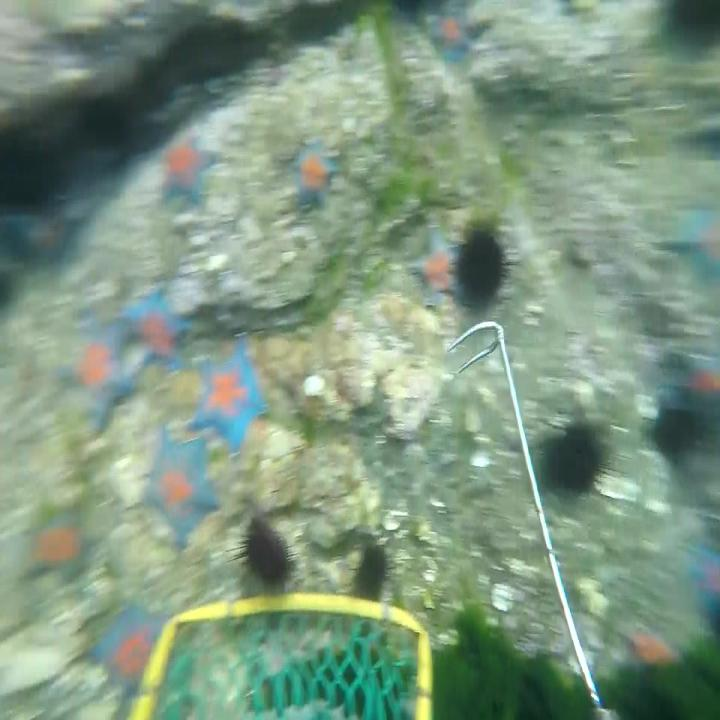echinus: (448, 225, 524, 310), (0, 120, 62, 221), (224, 513, 300, 591), (552, 413, 612, 498), (81, 90, 131, 158), (651, 402, 702, 467), (663, 0, 719, 57), (350, 540, 396, 601)
starfish: (181, 334, 275, 464), (139, 419, 224, 553), (55, 307, 139, 441), (18, 488, 118, 592), (87, 600, 174, 705), (122, 282, 190, 378), (156, 131, 220, 207), (408, 224, 464, 307), (676, 344, 720, 433), (680, 197, 720, 294), (292, 132, 338, 210), (425, 0, 475, 68), (686, 538, 720, 631)
